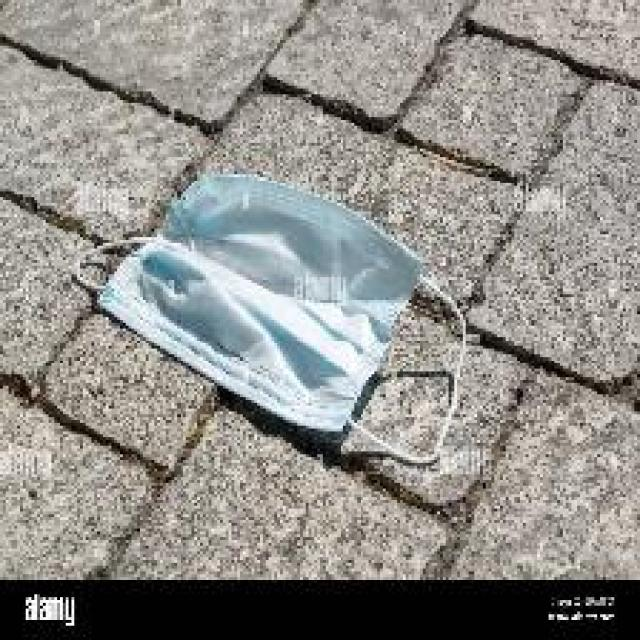Mask: (74, 145, 491, 479)
